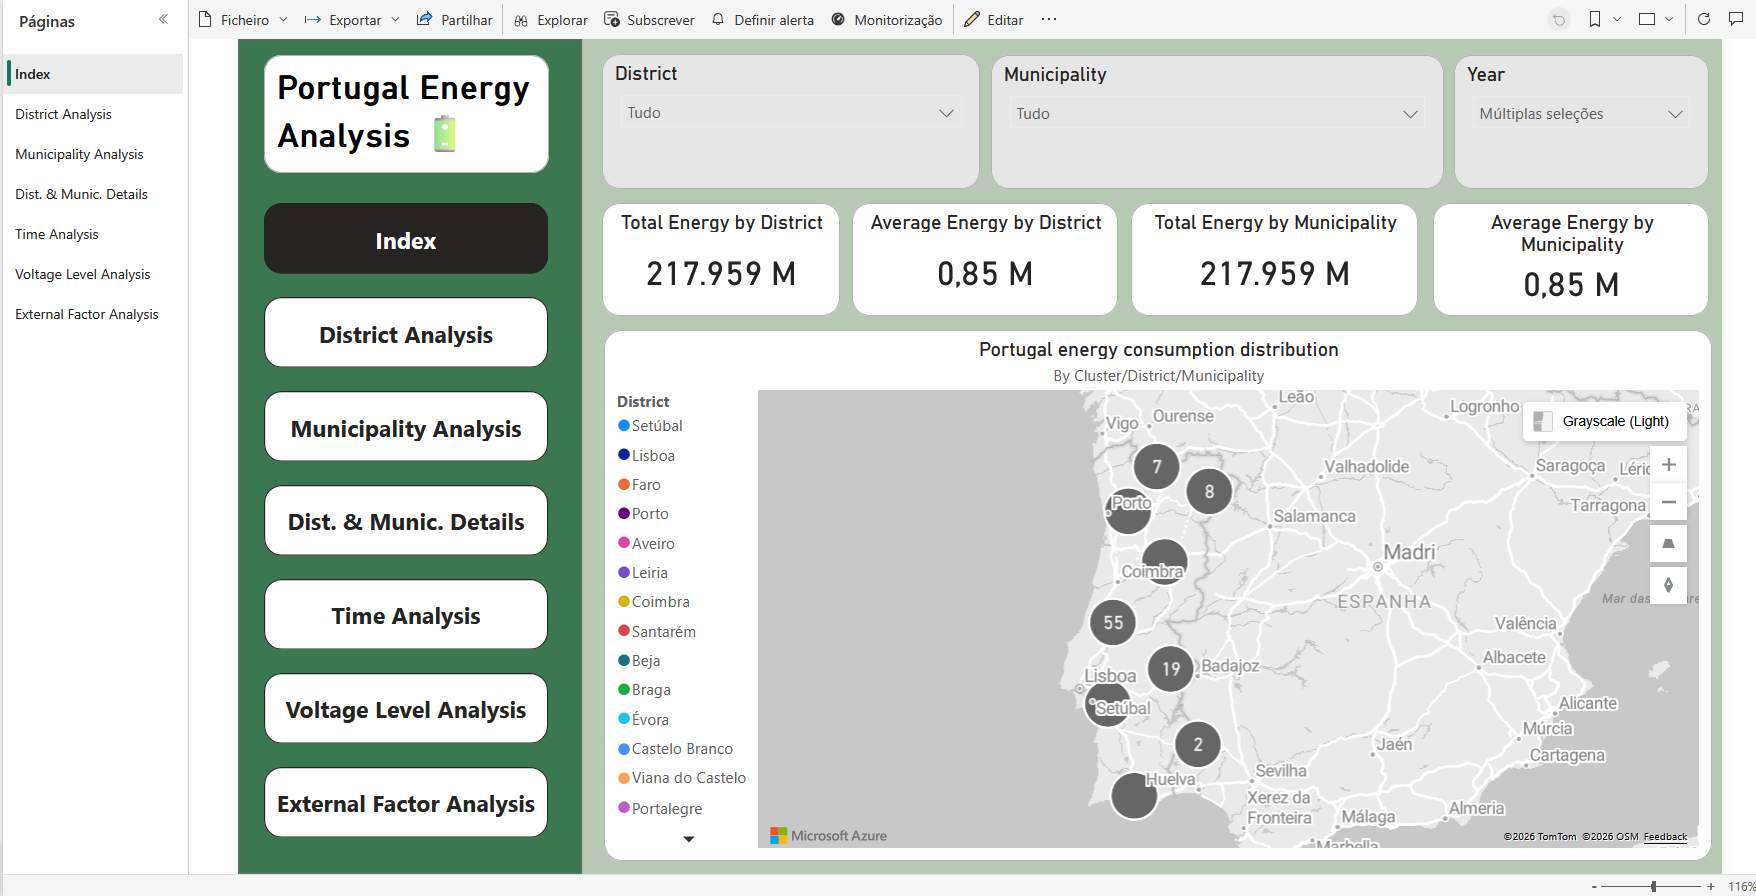

The dashboard page shown, as its layout file describes it:
{"tool":"powerbi","page":{"name":"Index","canvas":[1280,720],"ordinal":0},"visuals":[{"type":"shape","box":[0,0,296.7,719.7],"z":0},{"type":"slicer","title":"Year","fields":{"Values":["Dim Data.Year"]},"box":[1048.2,13.9,219.8,115.4],"z":1000},{"type":"slicer","title":"District","fields":{"Values":["Dim Geography.District"]},"box":[314,12.9,326,116.4],"z":2000},{"type":"slicer","title":"Municipality","fields":{"Values":["Dim Geography.Municipality"]},"box":[649.2,13.9,390.6,115.4],"z":3000},{"type":"azureMap","title":"Portugal energy consumption distribution","fields":{"X":["Dim Geography.Longitude"],"Y":["Dim Geography.Latitude"],"Size":["Avg(Fact Consumption.ActiveEnergy_kWh)"],"Series":["Dim Geography.District"]},"box":[315.9,251.3,955,457.9],"z":4000},{"type":"card","title":"Average Energy by District","fields":{"Values":["Fact Consumption.Avg Consumption by District"]},"box":[529.8,141.1,229.4,97.4],"z":5000},{"type":"card","title":"Total Energy by Municipality","fields":{"Values":["Fact Consumption.Total Consumption"]},"box":[770.1,141.1,247.6,97.4],"z":6000},{"type":"card","title":"Average Energy by Municipality","fields":{"Values":["Fact Consumption.Average Consumption"]},"box":[1030,141,238.3,97.3],"z":7000},{"type":"card","title":"Total Energy by District","fields":{"Values":["Fact Consumption.Total Consumption by District"]},"box":[314.1,141.1,204.8,97.4],"z":8000},{"type":"pageNavigator","box":[22.4,141.3,245.5,551.8],"z":9000},{"type":"textbox","box":[22.5,13.8,245.3,101.4],"z":10000}]}

Visuals, with their boxes on the page's 1280x720 design canvas (x1, y1, x2, y2). These are canvas units, not pixel positions in the 1756x896 screenshot, which may show the page scaled, cropped or inside an application window:
shape: 0, 0, 297, 720
"Year" slicer: 1048, 14, 1268, 129
"District" slicer: 314, 13, 640, 129
"Municipality" slicer: 649, 14, 1040, 129
"Portugal energy consumption distribution" azureMap: 316, 251, 1271, 709
"Average Energy by District" card: 530, 141, 759, 238
"Total Energy by Municipality" card: 770, 141, 1018, 238
"Average Energy by Municipality" card: 1030, 141, 1268, 238
"Total Energy by District" card: 314, 141, 519, 238
pageNavigator: 22, 141, 268, 693
textbox: 22, 14, 268, 115
